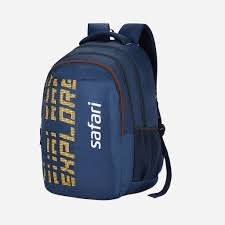backpack: (39, 22, 172, 200)
